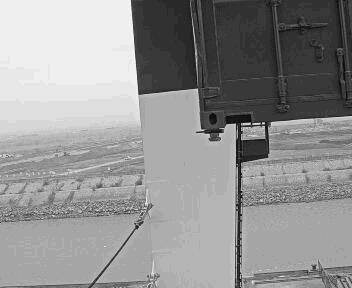twist_lock_1: (203, 125, 227, 144)
